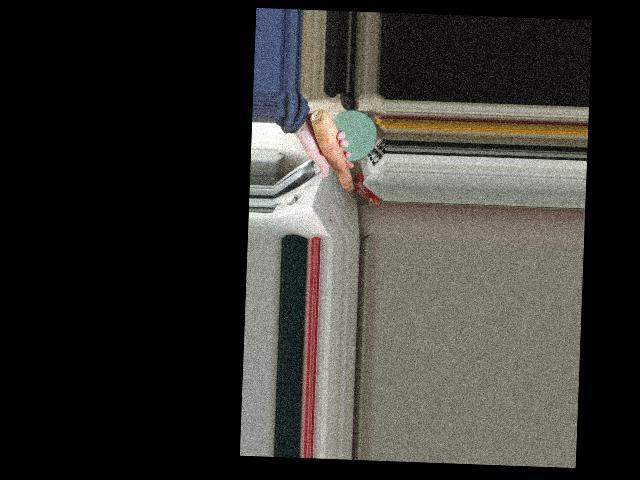sweet_potato: (305, 107, 360, 197)
